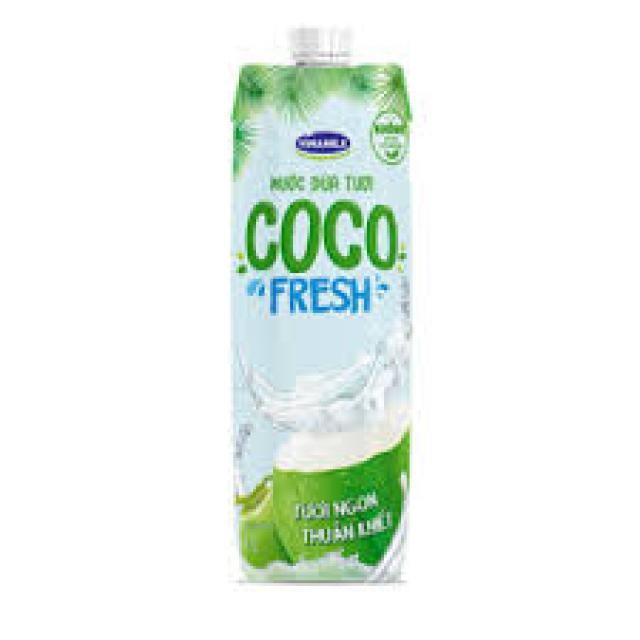non_white_jug: (205, 10, 444, 590)
